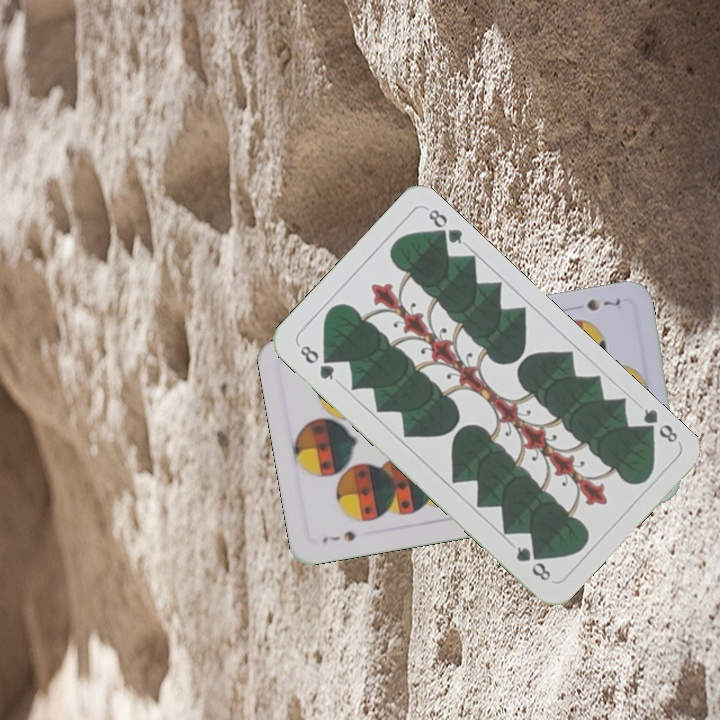G8: (635, 404, 681, 446), (295, 341, 337, 383)
S7: (582, 294, 624, 314), (318, 527, 359, 546)
